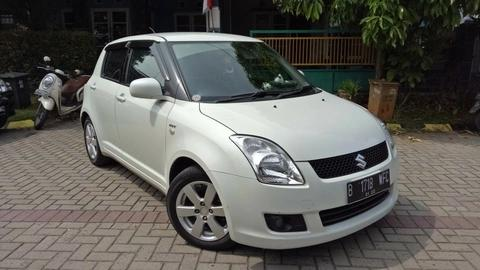plate: (347, 168, 390, 204)
